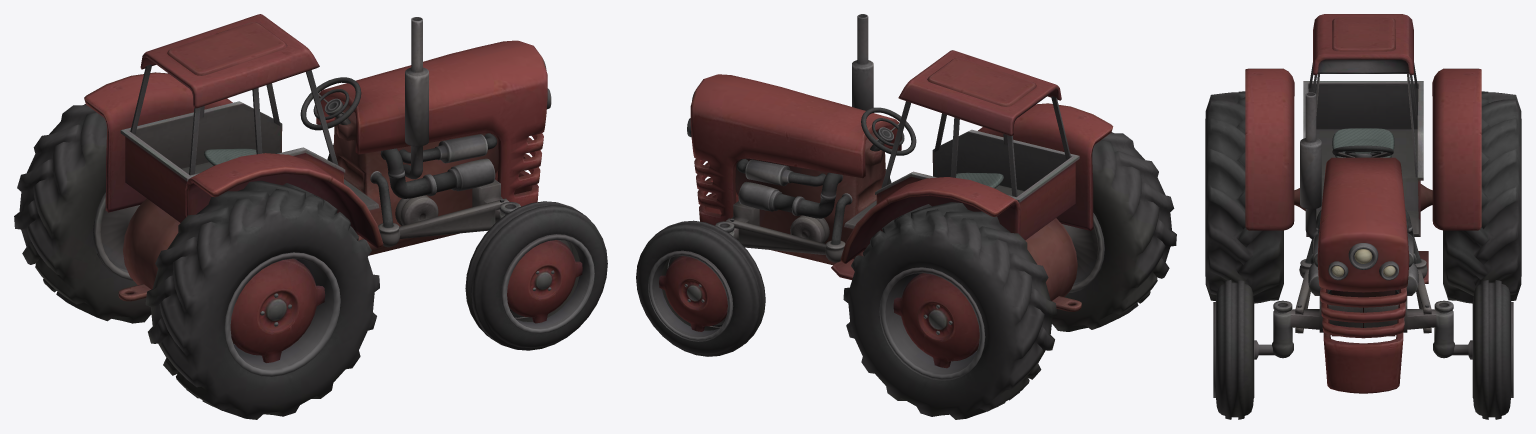
The model's file is tractor_(farm_equipment).glb.
The picture shows the model from 3 angles, left to right: view 1: azimuth 30°, elevation 25°; view 2: azimuth 150°, elevation 25°; view 3: azimuth 270°, elevation 25°; orthographic projection. The views are drawn at different scales.
Visible parts, largest first — view 1: backTire, hull, frontTire, tireFlap, sitBox, tubeStuff, roof, midBit, pipe, roofbeams, wheel, seat; view 2: backTire, hull, frontTire, tireFlap, sitBox, tubeStuff, roof, midBit, roofbeams, pipe, wheel; view 3: backTire, hull, tireFlap, frontTire, sitBox, tubeStuff, roof, pipe, seat, midBit, roofbeams, wheel.
Part boxes in pixels (<box>): backTire: <box>14,104,379,419</box>; hull: <box>316,40,551,206</box>; frontTire: <box>327,155,607,350</box>; tireFlap: <box>84,72,383,248</box>; sitBox: <box>120,101,379,222</box>; tubeStuff: <box>328,133,520,247</box>; roof: <box>140,14,319,108</box>; midBit: <box>118,104,498,301</box>; pipe: <box>403,17,428,179</box>; roofbeams: <box>130,64,338,175</box>; wheel: <box>300,77,361,130</box>; seat: <box>204,148,262,165</box>; backTire: <box>843,132,1176,419</box>; hull: <box>687,74,901,225</box>; frontTire: <box>636,179,891,356</box>; tireFlap: <box>840,103,1113,263</box>; sitBox: <box>844,129,1079,240</box>; tubeStuff: <box>715,159,890,262</box>; roof: <box>898,50,1061,135</box>; midBit: <box>735,132,1081,311</box>; roofbeams: <box>881,96,1070,196</box>; pipe: <box>852,14,873,110</box>; wheel: <box>861,107,916,155</box>; backTire: <box>1205,91,1521,303</box>; hull: <box>1317,157,1409,393</box>; tireFlap: <box>1245,68,1481,230</box>; frontTire: <box>1213,280,1513,419</box>; sitBox: <box>1303,81,1423,236</box>; tubeStuff: <box>1272,210,1454,358</box>; roof: <box>1313,14,1413,74</box>; pipe: <box>1300,92,1321,239</box>; seat: <box>1332,128,1394,157</box>; midBit: <box>1294,184,1432,336</box>; roofbeams: <box>1309,63,1417,177</box>; wheel: <box>1332,145,1393,157</box>.
Size of the model in its own units: 1.64 by 1.11 by 1.12.
Materials: 9 (9 with a texture image).
